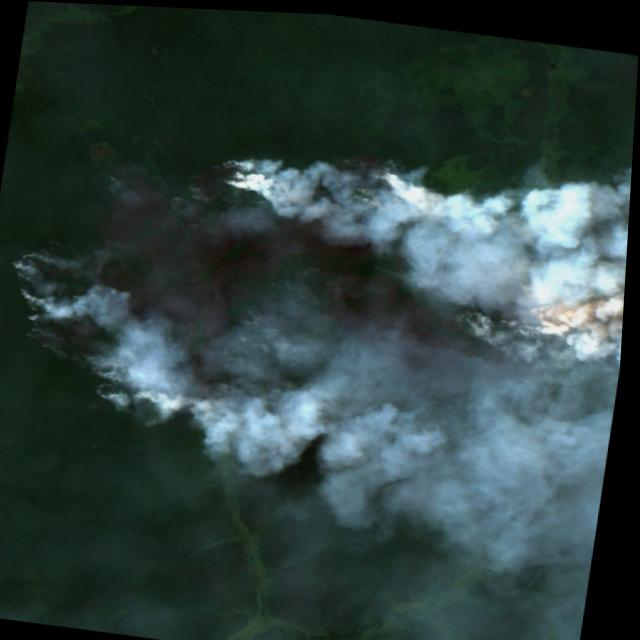fire: (0, 238, 221, 431), (196, 124, 416, 241), (434, 257, 599, 398)
